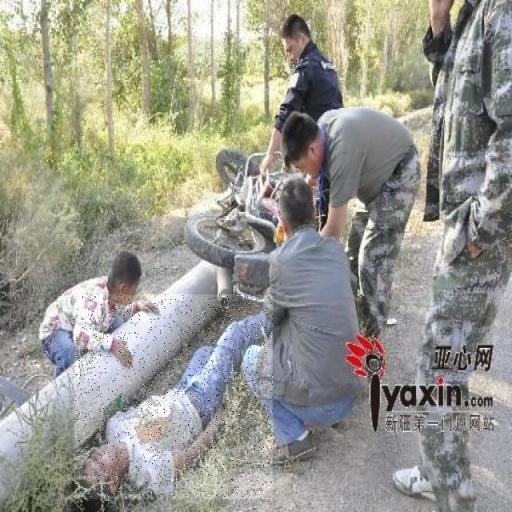Fall: (74, 295, 273, 500)
